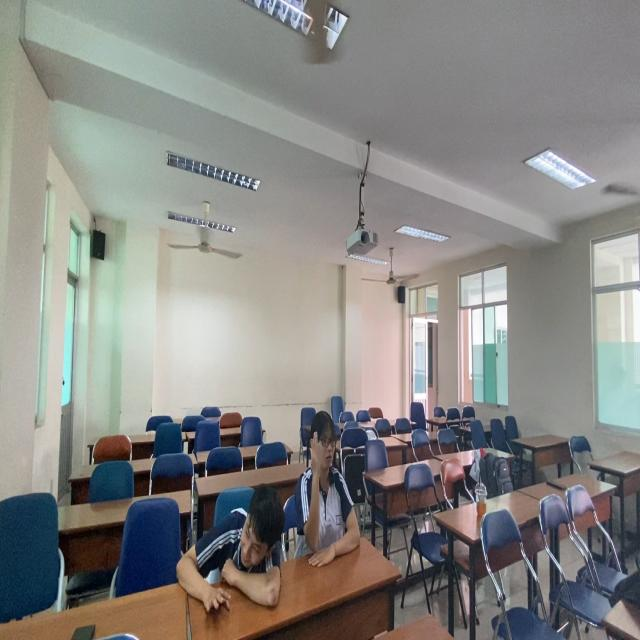raise_hand: (305, 410, 362, 577)
sleep: (177, 490, 285, 620)
